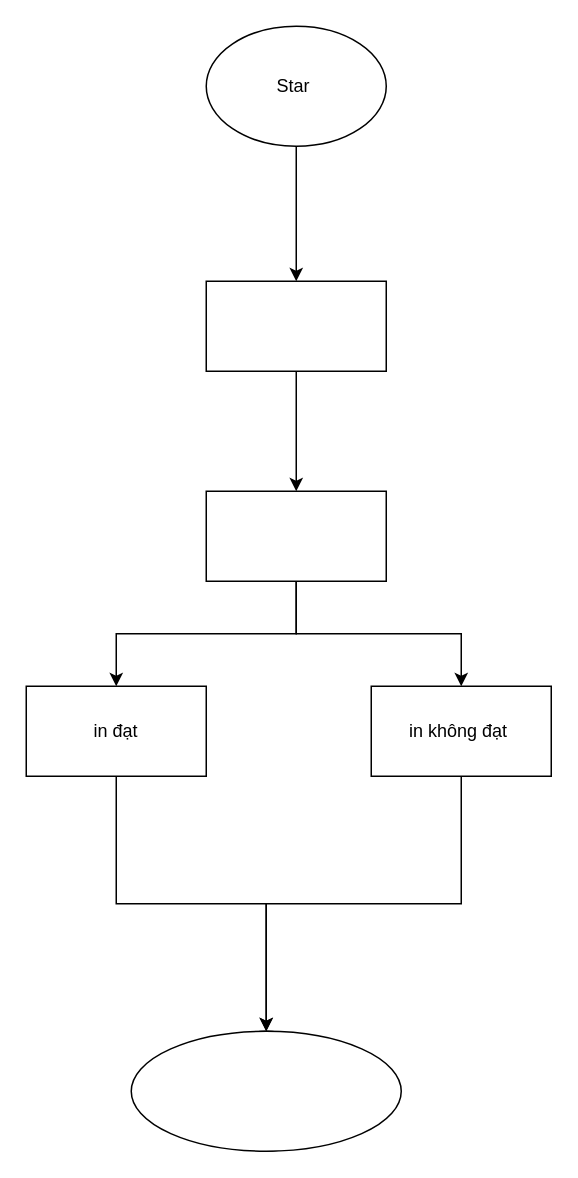
Image size: 578x1178. Some labels were removed from this diagram. The centre of each missing label's shape, as x and y in pixels:
"kiểm tra giá trị >=5" goes at point 295,535.
"nhập giá trị n" goes at point 295,325.
